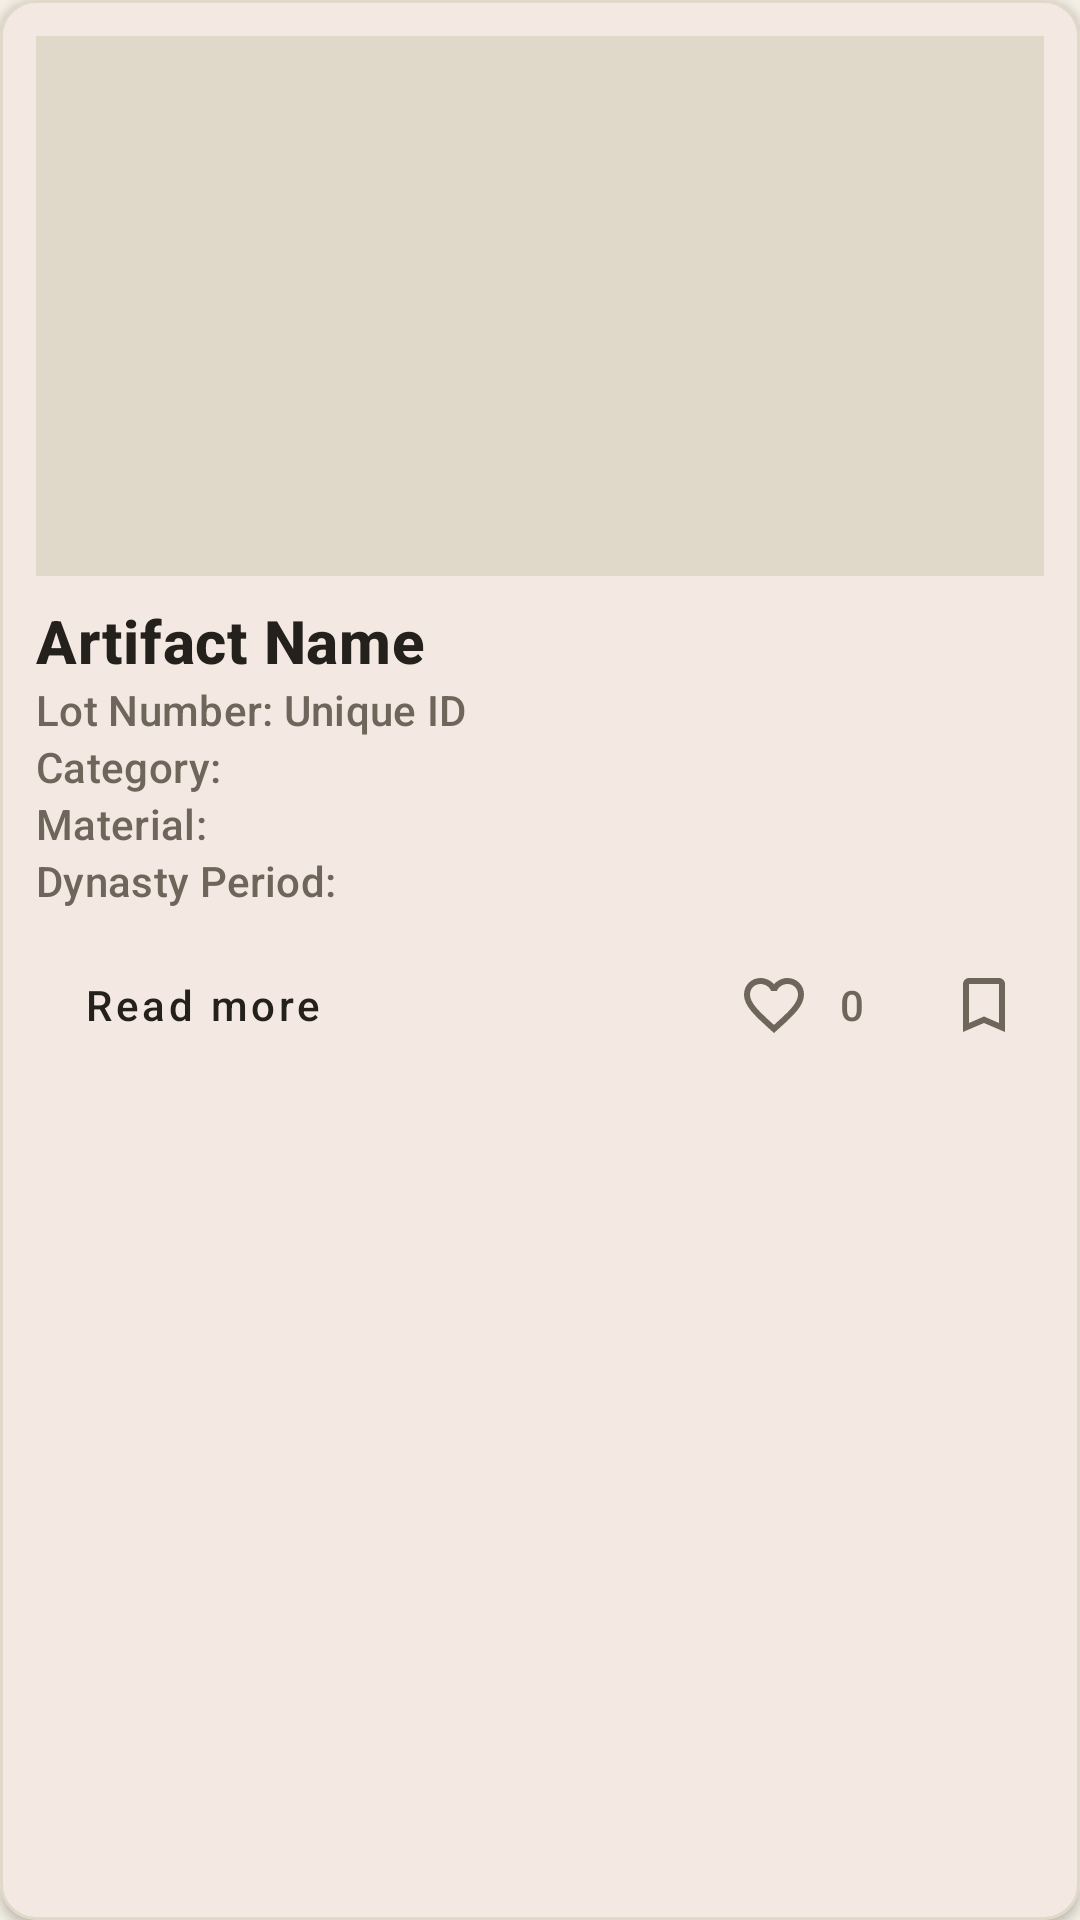

Named icons in this screenshot (1080w x 1920h) and their centers, (x=x, y=y):
Like artifact: (x=774, y=1005)
Save artifact: (x=984, y=1005)
